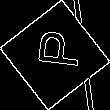P_W: (28, 34, 82, 76)
